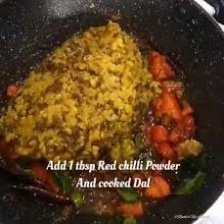sabzi: (150, 54, 203, 201)
